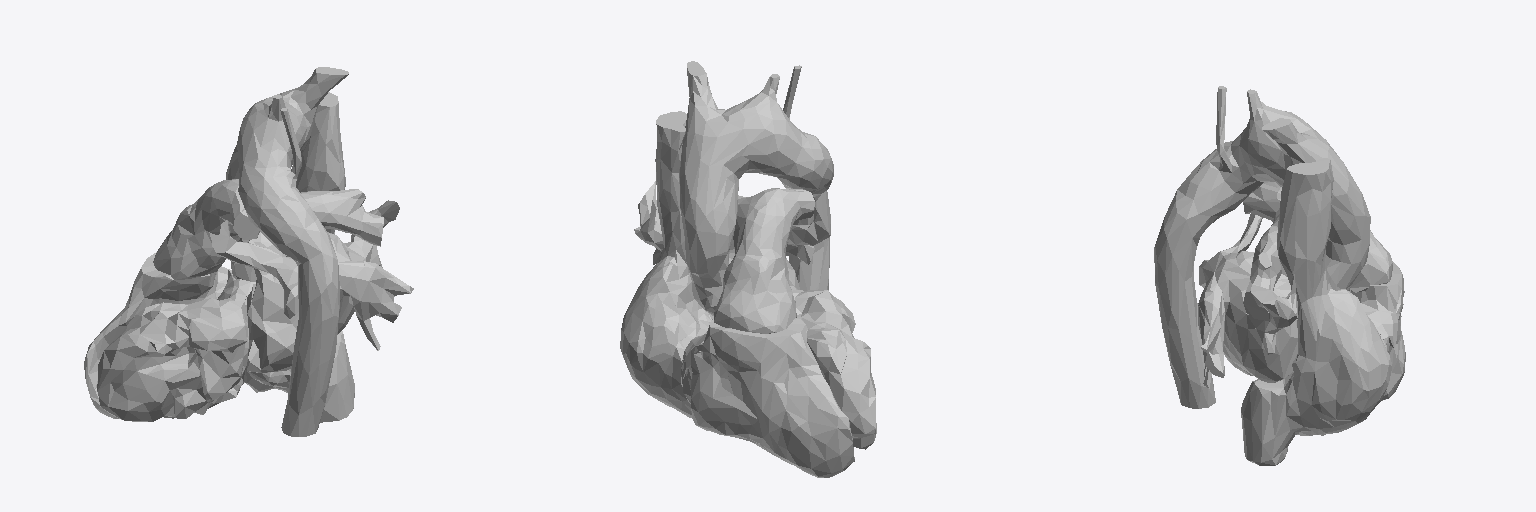
File: 2018015-01PulmonaryArterylowres.obj
3 views of the same model, side by side, from view 1: azimuth 30°, elevation 25°; view 2: azimuth 150°, elevation 25°; view 3: azimuth 270°, elevation 25° (orthographic).
Visible parts, largest first — view 1: Ccase_003_Post_Ao_Remeshed_Reduced90_Smoothed_Aligned, Ccase_003_Post_Lv_Remeshed_Reduced90_Smoothed_Aligned, Ccase_003_Post_La_Remeshed_Reduced90_Smoothed_Aligned, Ccase_003_Post_Pa_Remeshed_Reduced90_Smoothed_Aligned, Ccase_003_Post_Ra_Remeshed_Reduced90_Smoothed_Aligned, Ccase_003_Post_Rv_Remeshed_Reduced90_Smoothed_Aligned; view 2: Ccase_003_Post_Ao_Remeshed_Reduced90_Smoothed_Aligned, Ccase_003_Post_Rv_Remeshed_Reduced90_Smoothed_Aligned, Ccase_003_Post_Ra_Remeshed_Reduced90_Smoothed_Aligned, Ccase_003_Post_Pa_Remeshed_Reduced90_Smoothed_Aligned, Ccase_003_Post_Lv_Remeshed_Reduced90_Smoothed_Aligned, Ccase_003_Post_La_Remeshed_Reduced90_Smoothed_Aligned; view 3: Ccase_003_Post_Ra_Remeshed_Reduced90_Smoothed_Aligned, Ccase_003_Post_Ao_Remeshed_Reduced90_Smoothed_Aligned, Ccase_003_Post_La_Remeshed_Reduced90_Smoothed_Aligned, Ccase_003_Post_Pa_Remeshed_Reduced90_Smoothed_Aligned, Ccase_003_Post_Rv_Remeshed_Reduced90_Smoothed_Aligned.
Boxes of the visible parts, <box> form: Ccase_003_Post_Ao_Remeshed_Reduced90_Smoothed_Aligned: <box>226,67,348,436</box>; Ccase_003_Post_Lv_Remeshed_Reduced90_Smoothed_Aligned: <box>97,270,255,421</box>; Ccase_003_Post_La_Remeshed_Reduced90_Smoothed_Aligned: <box>212,200,413,372</box>; Ccase_003_Post_Pa_Remeshed_Reduced90_Smoothed_Aligned: <box>153,179,383,279</box>; Ccase_003_Post_Ra_Remeshed_Reduced90_Smoothed_Aligned: <box>241,92,354,422</box>; Ccase_003_Post_Rv_Remeshed_Reduced90_Smoothed_Aligned: <box>84,252,241,418</box>; Ccase_003_Post_Ao_Remeshed_Reduced90_Smoothed_Aligned: <box>679,61,833,315</box>; Ccase_003_Post_Rv_Remeshed_Reduced90_Smoothed_Aligned: <box>681,318,854,477</box>; Ccase_003_Post_Ra_Remeshed_Reduced90_Smoothed_Aligned: <box>620,111,711,417</box>; Ccase_003_Post_Pa_Remeshed_Reduced90_Smoothed_Aligned: <box>714,188,814,333</box>; Ccase_003_Post_Lv_Remeshed_Reduced90_Smoothed_Aligned: <box>792,289,876,449</box>; Ccase_003_Post_La_Remeshed_Reduced90_Smoothed_Aligned: <box>634,181,829,319</box>; Ccase_003_Post_Ra_Remeshed_Reduced90_Smoothed_Aligned: <box>1241,158,1391,465</box>; Ccase_003_Post_Ao_Remeshed_Reduced90_Smoothed_Aligned: <box>1154,86,1370,408</box>; Ccase_003_Post_La_Remeshed_Reduced90_Smoothed_Aligned: <box>1198,213,1297,388</box>; Ccase_003_Post_Pa_Remeshed_Reduced90_Smoothed_Aligned: <box>1243,182,1392,320</box>; Ccase_003_Post_Rv_Remeshed_Reduced90_Smoothed_Aligned: <box>1351,262,1405,400</box>.
Bounding box in the file's own units: 143 × 172 × 117.